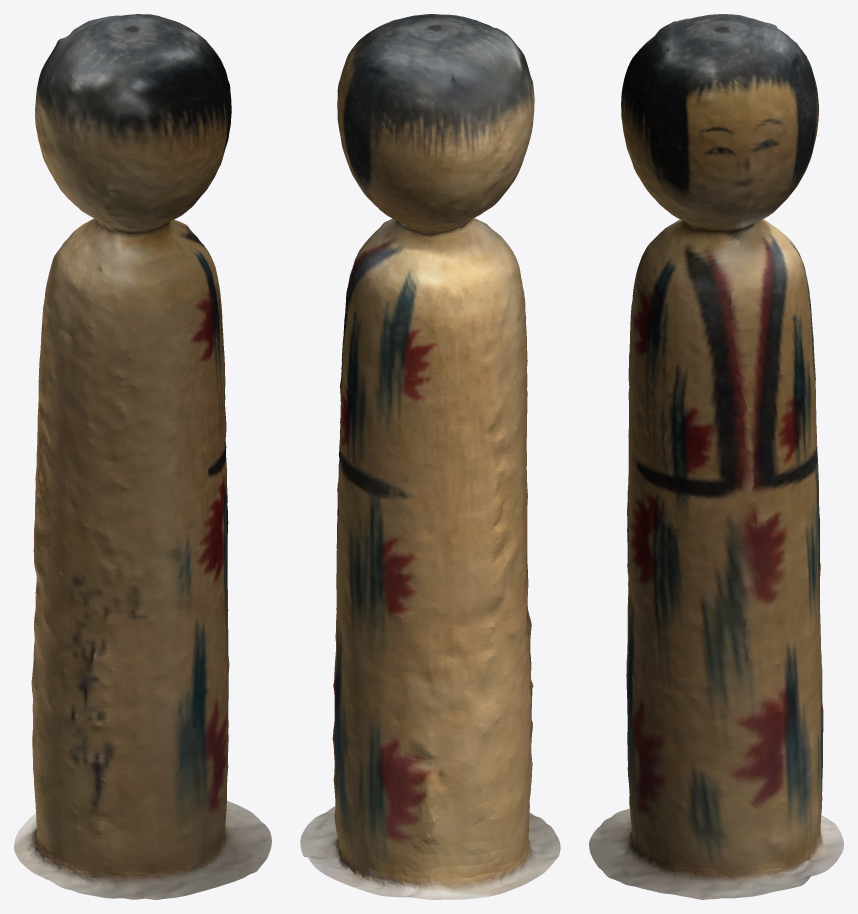
The model's file is kokeshi009.glb.
3 views of the same model, side by side, from view 1: azimuth 30°, elevation 25°; view 2: azimuth 150°, elevation 25°; view 3: azimuth 270°, elevation 25° (orthographic).
Visible parts, largest first — view 1: mesh; view 2: mesh; view 3: mesh.
Boxes of the visible parts, x1=… form: mesh: x1=14, y1=14, x2=271, y2=899; mesh: x1=300, y1=14, x2=560, y2=899; mesh: x1=589, y1=14, x2=843, y2=899.
Size of the model in its own units: 0.0697 by 0.2435 by 0.0689.
Materials: 1 (1 with a texture image).
